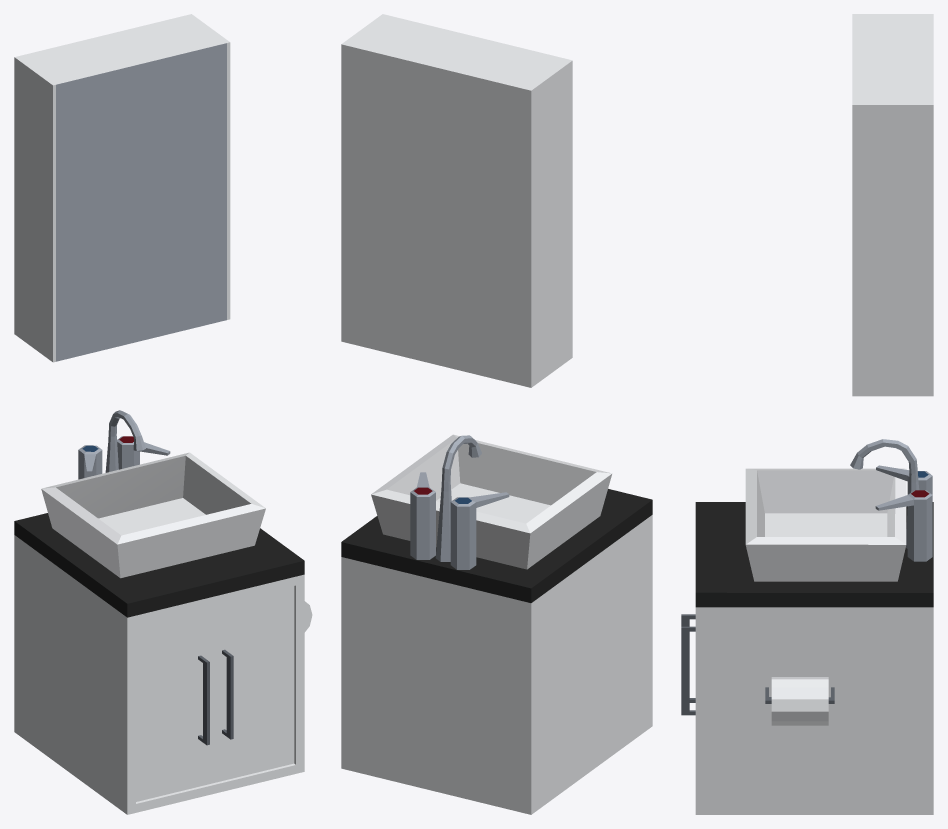
File: Building_Toilet_Handwash.glb
The picture shows the model from 3 angles, left to right: view 1: azimuth 30°, elevation 25°; view 2: azimuth 150°, elevation 25°; view 3: azimuth 270°, elevation 25°; orthographic projection. The views are drawn at different scales.
Visible parts, largest first — view 1: Building_Toilet_Handwash; view 2: Building_Toilet_Handwash; view 3: Building_Toilet_Handwash.
Part boxes in pixels (box(x1,y1,x2,y2)): Building_Toilet_Handwash: box(14, 14, 312, 814); Building_Toilet_Handwash: box(341, 14, 652, 814); Building_Toilet_Handwash: box(681, 14, 933, 814).
Size of the model in its own units: 0.6249 by 1.82 by 0.5869.
1 material, 1 textured.
